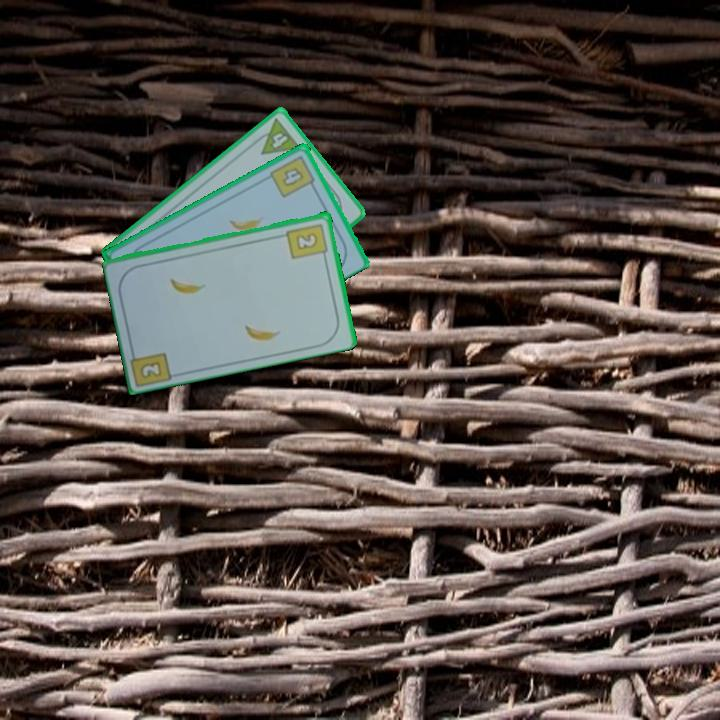2b: (284, 220, 330, 262), (139, 358, 165, 379)
4b: (267, 151, 319, 200)
4p: (249, 115, 304, 158)
